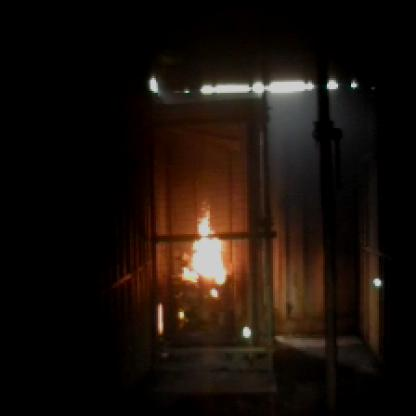Fire: (175, 204, 232, 314)
